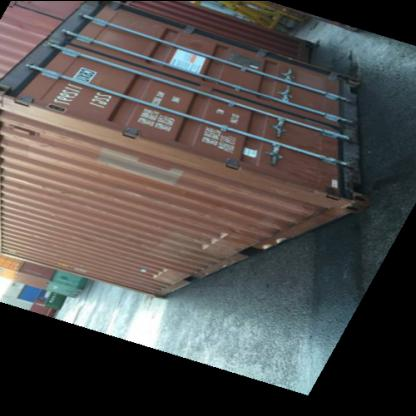Damage: (300, 170, 351, 214), (192, 223, 234, 252), (134, 264, 175, 283), (113, 184, 152, 198)
